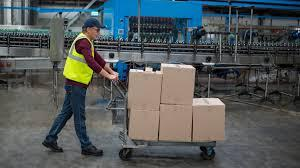Boxes: (161, 64, 194, 106), (128, 70, 160, 110), (193, 103, 225, 141), (160, 105, 192, 142), (130, 109, 158, 141)
